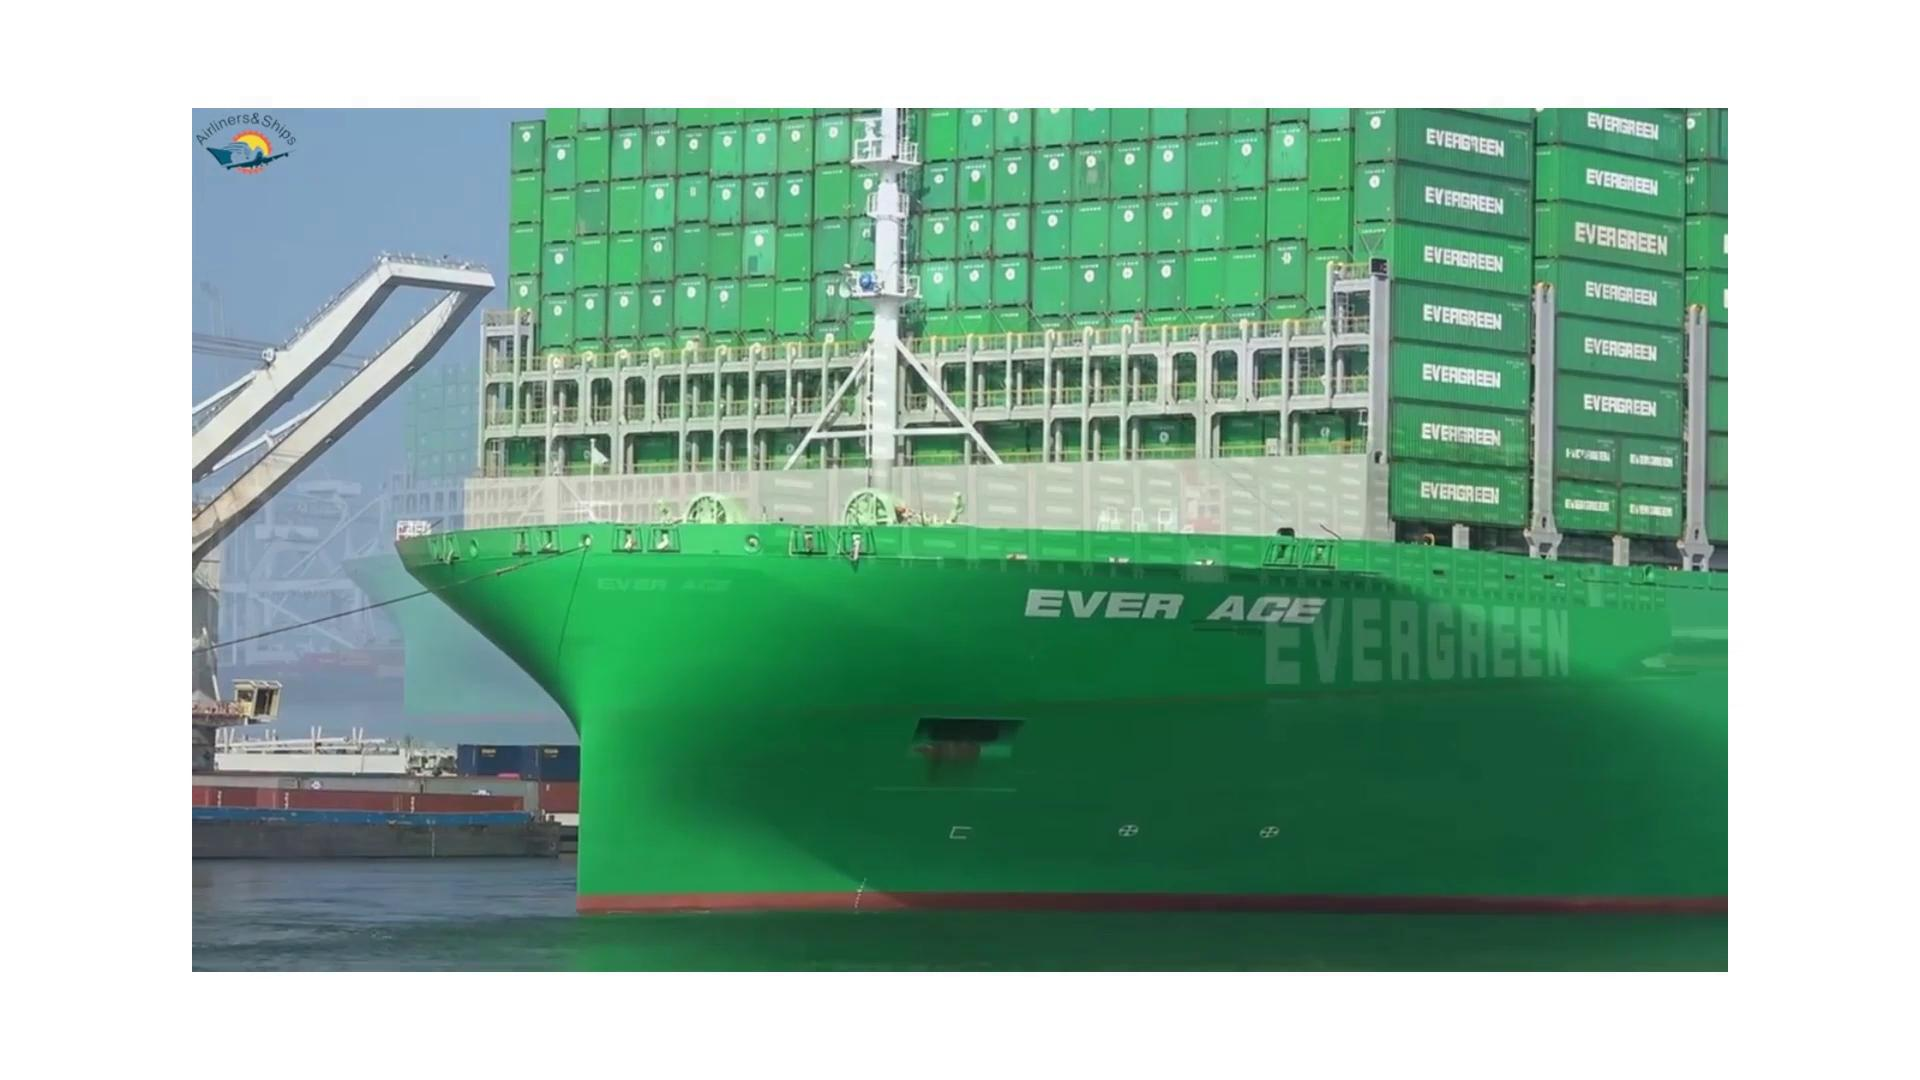OCR: (1001, 563, 1321, 649)
